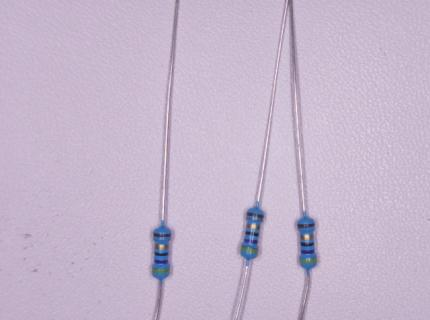Gold band: (247, 224, 260, 230), (154, 244, 169, 249), (300, 234, 314, 239)
Violet band: (244, 238, 258, 244), (154, 259, 169, 264), (301, 249, 315, 254)
Yellow band: (241, 247, 259, 253), (300, 258, 317, 263), (152, 269, 170, 273)
